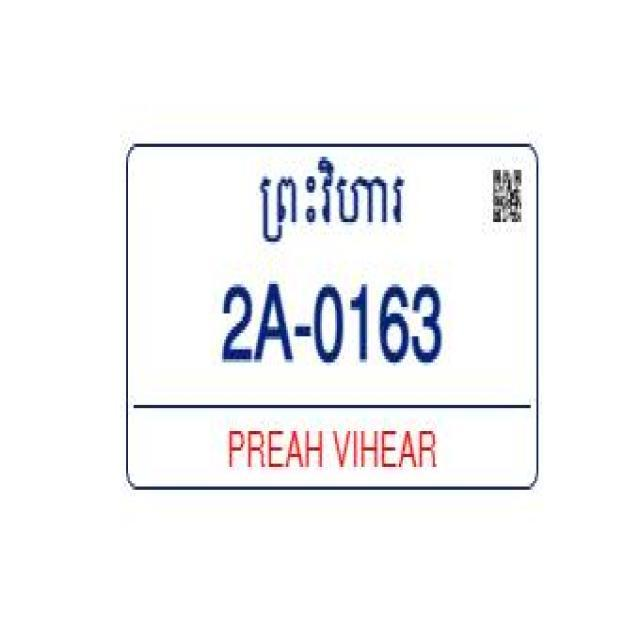Preah_Vihear: (256, 150, 406, 248)
